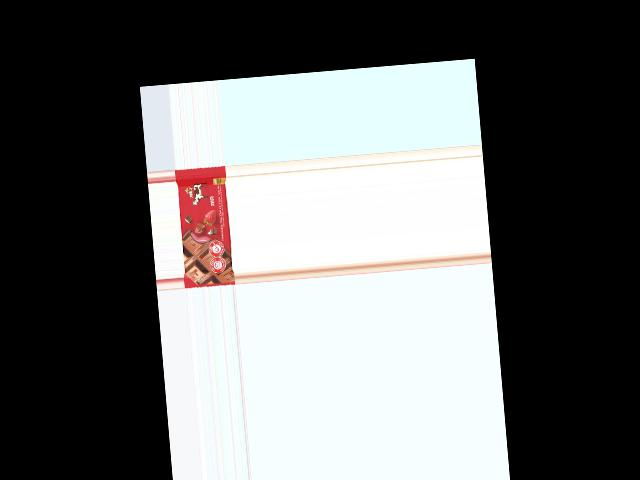chocolate: (175, 164, 235, 288)
